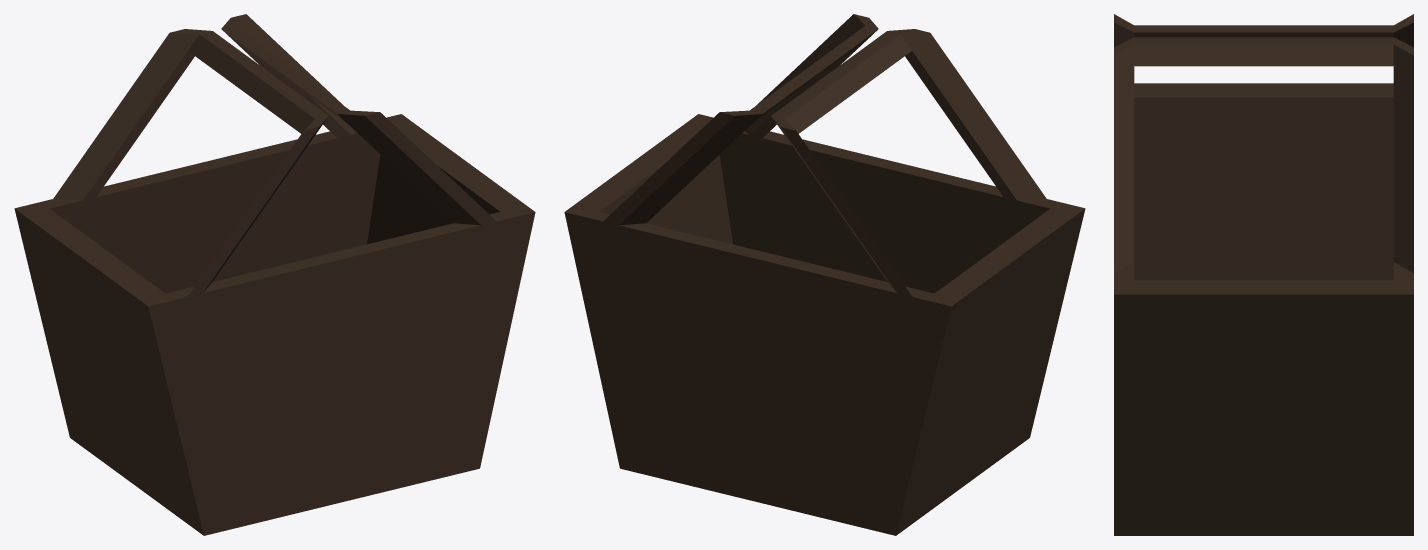
The model's file is SM_Basket.fbx.
3 views of the same model, side by side, from view 1: azimuth 30°, elevation 25°; view 2: azimuth 150°, elevation 25°; view 3: azimuth 270°, elevation 25° (orthographic). The views are drawn at different scales.
Parts seen in each view (by area): view 1: SM_Basket; view 2: SM_Basket; view 3: SM_Basket.
Boxes of the visible parts, bbox=[...] form: SM_Basket: bbox=[14, 14, 535, 535]; SM_Basket: bbox=[564, 14, 1085, 535]; SM_Basket: bbox=[1114, 14, 1413, 535].
Size of the model in its own units: 50 by 47.01 by 30.
